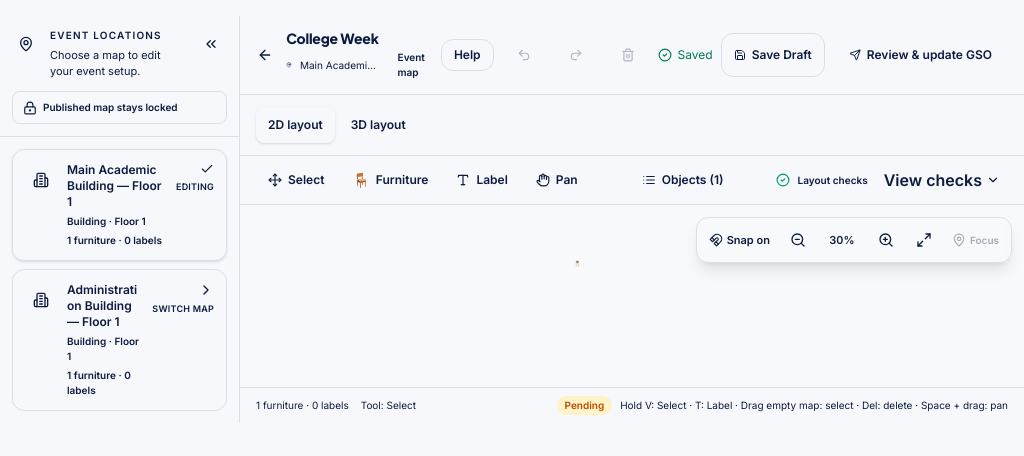
Test: StudentEventEditPage pending interaction boundaries › treats the database JSON key order as the same saved layout
Check: the element with test id "event-furniture-a-chair" is shown, box [574,260,581,267]
Click the button with aria-label "Toggle snapping": (739,240) [701,222,778,258]
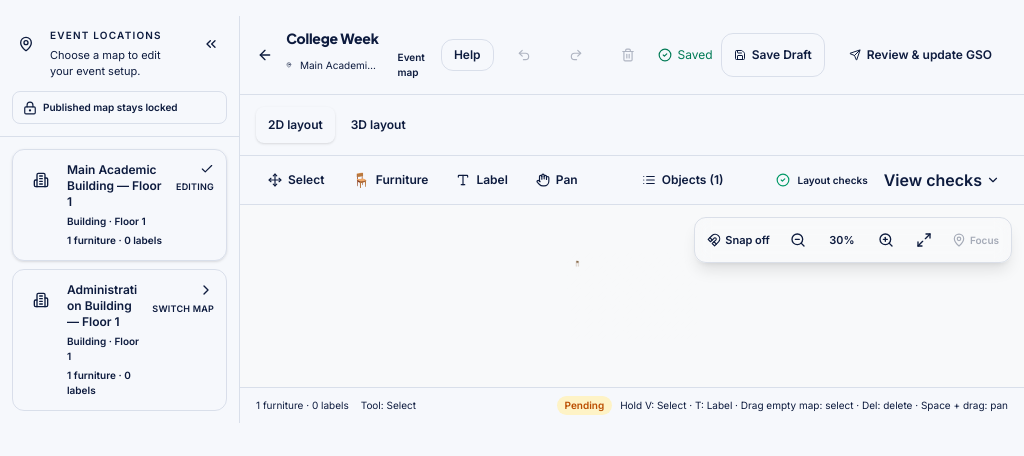
Press the mouse on the element with test id "event-furniture-a-chair": (577,264) [574,260,581,267]
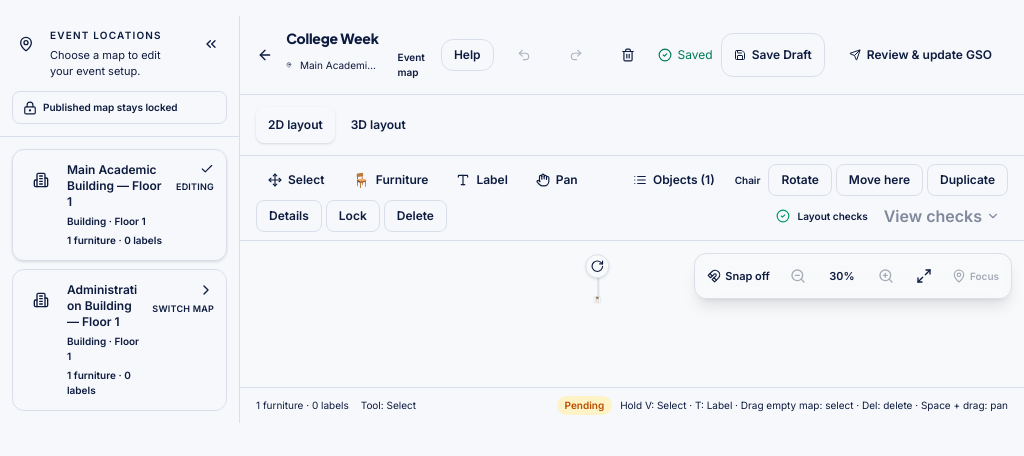
Click the button "Save Draft": (773,55) [721,33,825,77]
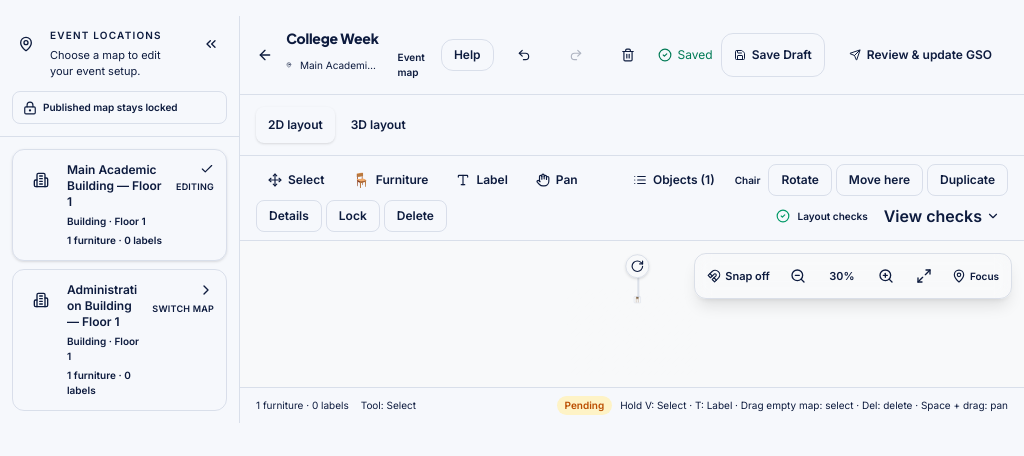
Click the button "Administration Building": (120,340) [12,269,227,411]
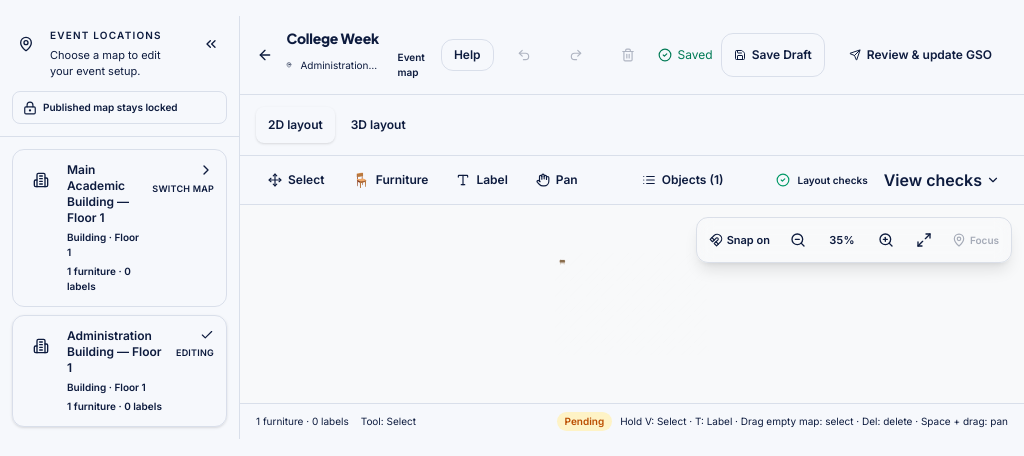
Check: the element with test id "event-furniture-b-table" is shown, box [559,259,566,266]
